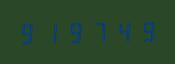four: (110, 19, 132, 43)
nine: (64, 20, 86, 44), (17, 21, 39, 44), (133, 19, 155, 42)
one: (40, 20, 62, 44)
seven: (87, 20, 109, 43)
